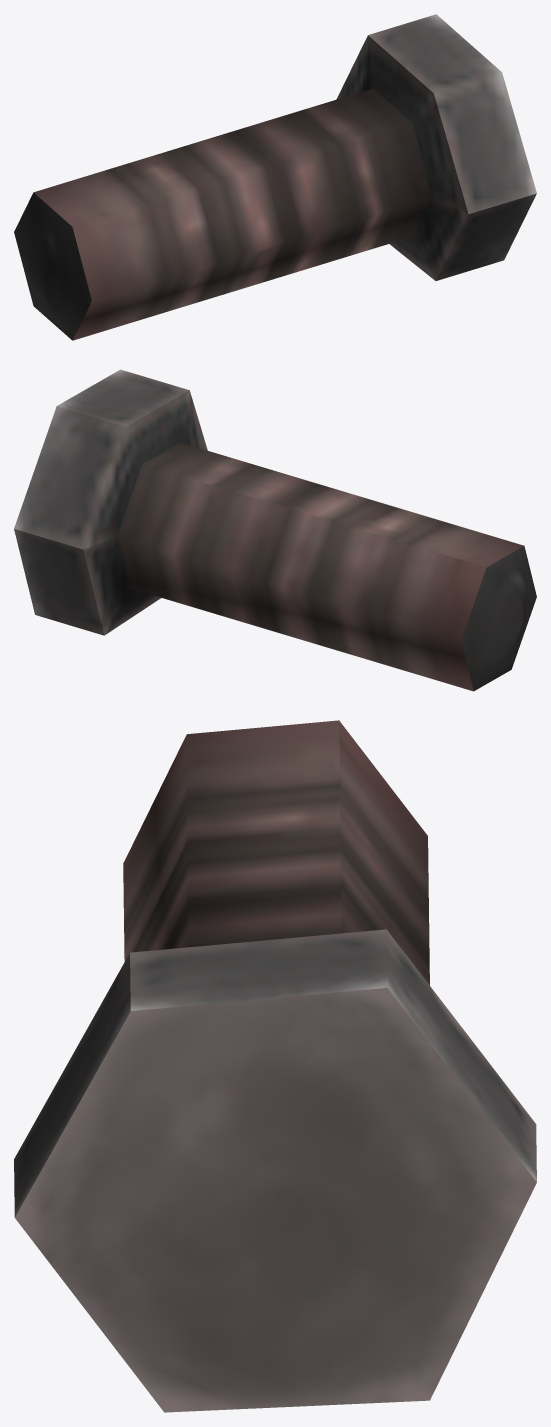
Rendered from Screw 48 tris.fbx.
3 views of the same model, one above another, from view 1: azimuth 30°, elevation 25°; view 2: azimuth 150°, elevation 25°; view 3: azimuth 270°, elevation 25° (orthographic). The views are drawn at different scales.
Visible parts, largest first — view 1: Screw 48 tris; view 2: Screw 48 tris; view 3: Screw 48 tris.
Part boxes in pixels (x1,y1,x2,y2): Screw 48 tris: (14, 14, 536, 340); Screw 48 tris: (14, 369, 536, 691); Screw 48 tris: (14, 720, 536, 1412).
Bounding box in the file's own units: 106 × 48.28 × 54.31.
